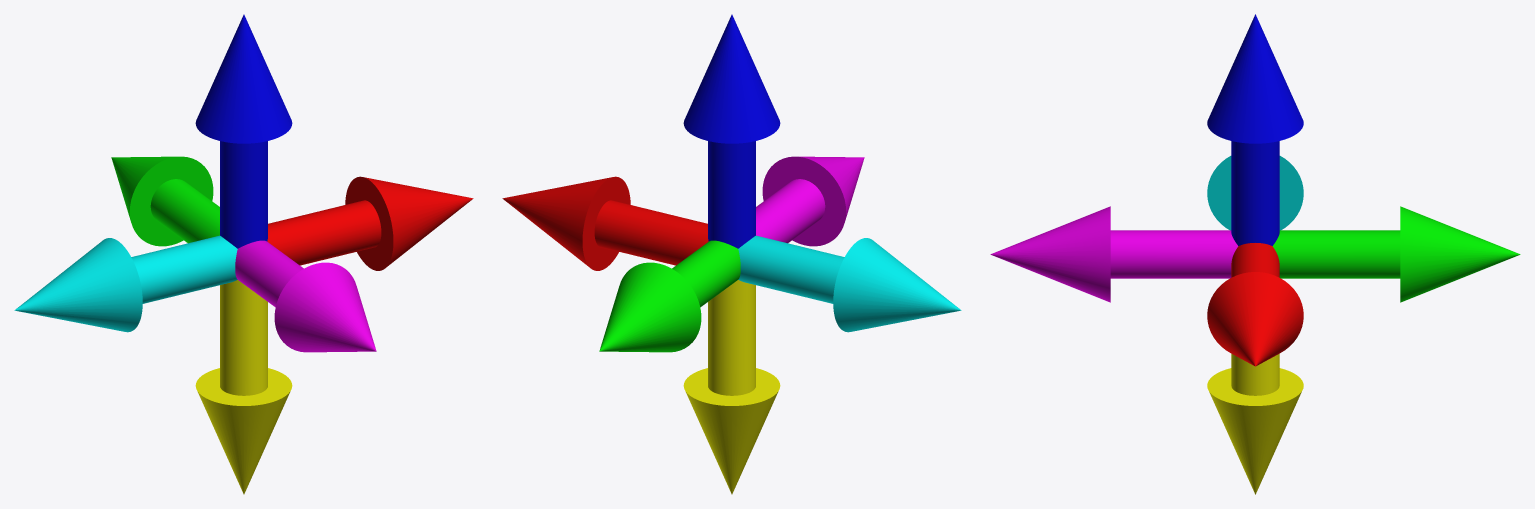
Rendered from AxisOfEvil.dae.
3 views of the same model, side by side, from view 1: azimuth 30°, elevation 25°; view 2: azimuth 150°, elevation 25°; view 3: azimuth 270°, elevation 25° (orthographic).
Visible parts, largest first — view 1: SketchUp_002, SketchUp, SketchUp_004, SketchUp_006, SketchUp_001, SketchUp_008, SketchUp_010, SketchUp_005, SketchUp_009, SketchUp_007, SketchUp_003, SketchUp_011; view 2: SketchUp_002, SketchUp_007, SketchUp_004, SketchUp_006, SketchUp_001, SketchUp_008, SketchUp_010, SketchUp_005, SketchUp_009, SketchUp, SketchUp_011, SketchUp_003; view 3: SketchUp_004, SketchUp_001, SketchUp_011, SketchUp_003, SketchUp_007, SketchUp, SketchUp_006, SketchUp_005, SketchUp_002, SketchUp_008, SketchUp_010.
Part boxes in pixels (x1=…): SketchUp_002: x1=14, y1=238, x2=142, y2=332; SketchUp: x1=274, y1=262, x2=376, y2=352; SketchUp_004: x1=195, y1=14, x2=292, y2=143; SketchUp_006: x1=195, y1=368, x2=292, y2=494; SketchUp_001: x1=345, y1=176, x2=473, y2=270; SketchUp_008: x1=220, y1=280, x2=267, y2=395; SketchUp_010: x1=267, y1=200, x2=381, y2=265; SketchUp_005: x1=220, y1=141, x2=267, y2=248; SketchUp_009: x1=131, y1=235, x2=237, y2=303; SketchUp_007: x1=111, y1=156, x2=213, y2=246; SketchUp_003: x1=150, y1=179, x2=219, y2=243; SketchUp_011: x1=235, y1=240, x2=303, y2=307; SketchUp_002: x1=833, y1=238, x2=961, y2=332; SketchUp_007: x1=599, y1=262, x2=701, y2=352; SketchUp_004: x1=683, y1=14, x2=780, y2=143; SketchUp_006: x1=683, y1=368, x2=780, y2=494; SketchUp_001: x1=502, y1=176, x2=630, y2=270; SketchUp_008: x1=708, y1=280, x2=755, y2=395; SketchUp_010: x1=594, y1=200, x2=708, y2=265; SketchUp_005: x1=708, y1=141, x2=755, y2=248; SketchUp_009: x1=738, y1=235, x2=844, y2=303; SketchUp: x1=762, y1=156, x2=864, y2=246; SketchUp_011: x1=756, y1=179, x2=825, y2=243; SketchUp_003: x1=672, y1=240, x2=740, y2=307; SketchUp_004: x1=1207, y1=14, x2=1303, y2=143; SketchUp_001: x1=1207, y1=272, x2=1303, y2=366; SketchUp_011: x1=1110, y1=230, x2=1238, y2=278; SketchUp_003: x1=1272, y1=230, x2=1400, y2=278; SketchUp_007: x1=1400, y1=206, x2=1520, y2=302; SketchUp: x1=990, y1=206, x2=1110, y2=302; SketchUp_006: x1=1207, y1=368, x2=1303, y2=494; SketchUp_005: x1=1231, y1=141, x2=1279, y2=245; SketchUp_002: x1=1207, y1=156, x2=1303, y2=230; SketchUp_008: x1=1231, y1=354, x2=1279, y2=395; SketchUp_010: x1=1231, y1=243, x2=1279, y2=277.
Bounding box in the file's own units: 22 × 22 × 22.
